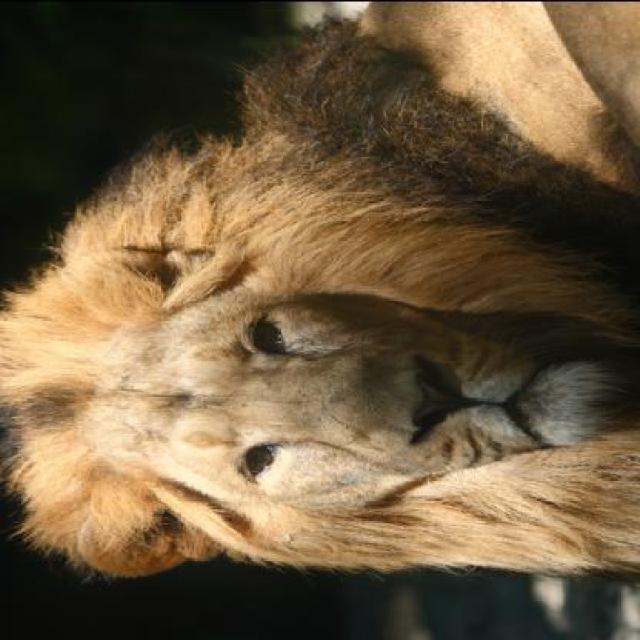Lion: (16, 7, 638, 638)
